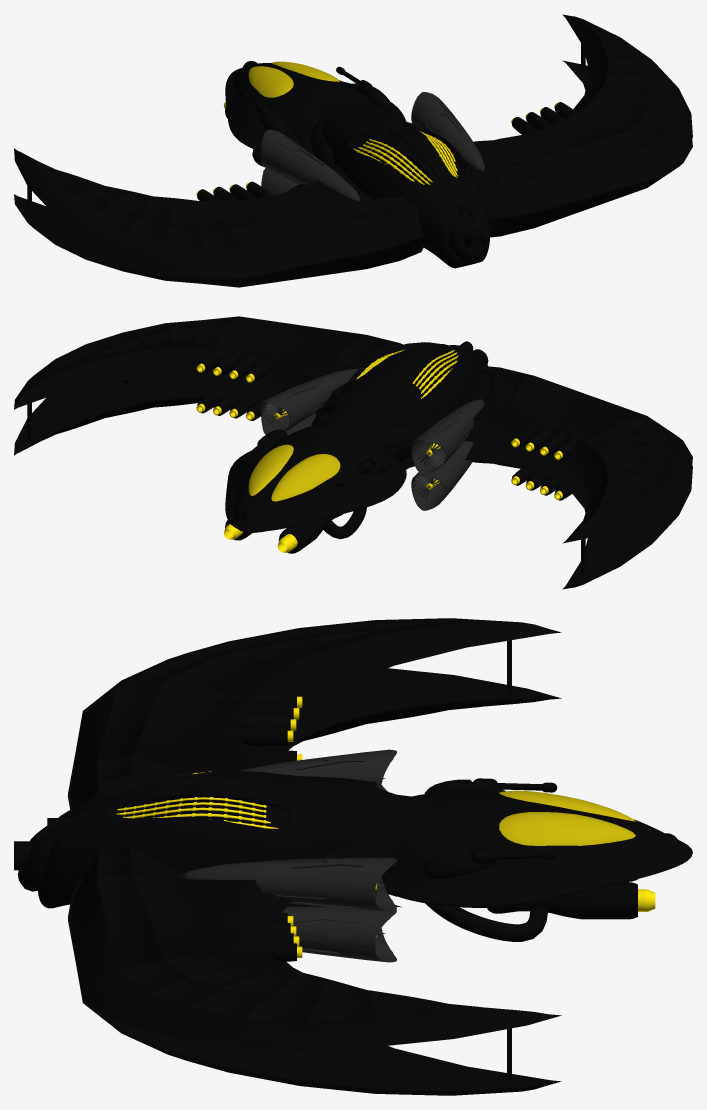
File: crosswing6-recentered.dae
3 renders of one model, top to bottom at view 1: azimuth 30°, elevation 25°; view 2: azimuth 150°, elevation 25°; view 3: azimuth 270°, elevation 25°, orthographic. The views are drawn at different scales.
Parts seen in each view (by area): view 1: Polygon; view 2: Polygon; view 3: Polygon.
Part boxes in pixels (box(x1,y1,x2,y2)): Polygon: box(14, 14, 692, 287); Polygon: box(14, 316, 692, 589); Polygon: box(14, 618, 692, 1095).
Size of the model in its own units: 739 by 110 by 502.
